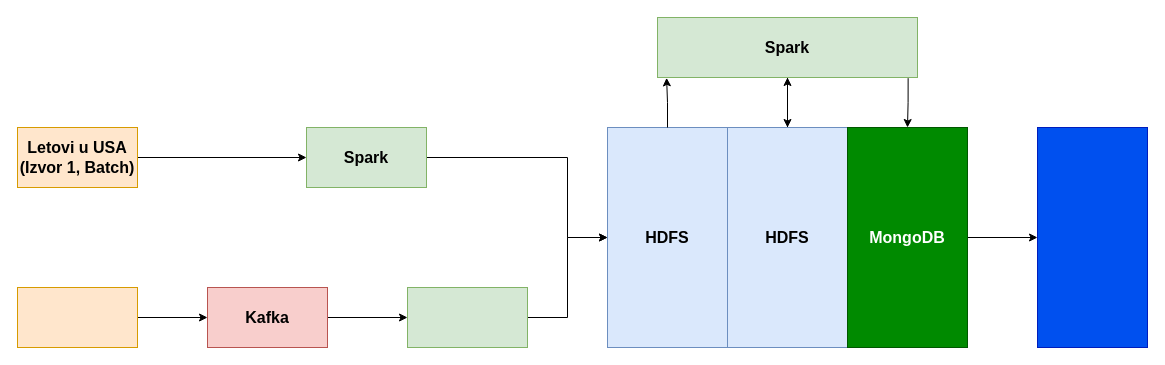
Image size: 1165x365. Some labels were removed from this diagram. The shapes that lost their labels are listed below. From the top down, each one's centre as x and y in pixels, then its label:
the point at 1092,237: Metabase
the point at 77,317: Letovi u GER (Izvor 2, Streaming)
the point at 467,317: Spark Structured Streaming
